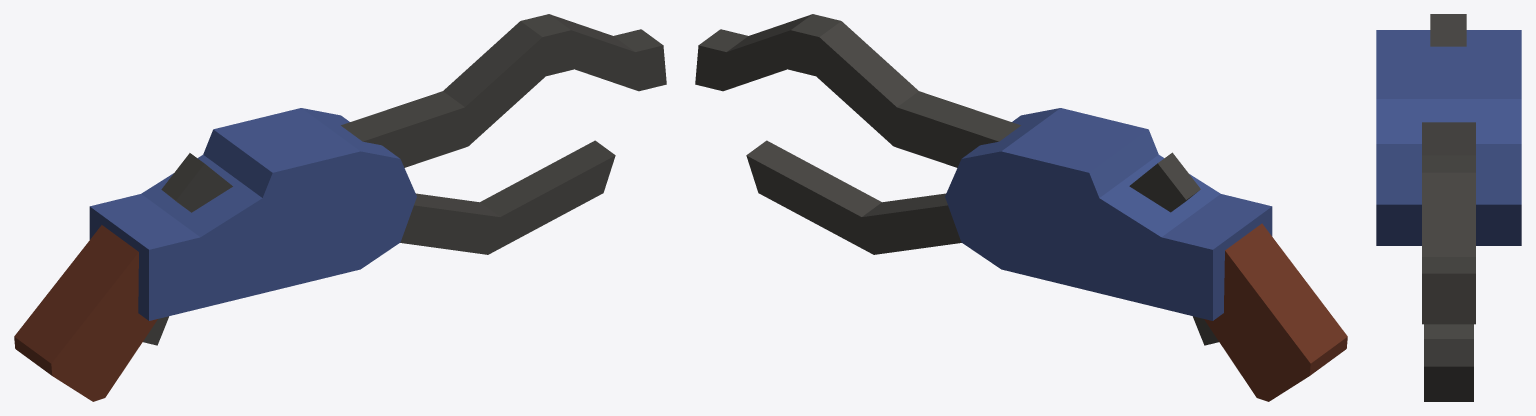
The model's file is Laser.fbx.
3 views of the same model, side by side, from view 1: azimuth 30°, elevation 25°; view 2: azimuth 150°, elevation 25°; view 3: azimuth 270°, elevation 25° (orthographic). The views are drawn at different scales.
Parts seen in each view (by area): view 1: Cube.001, Cube.003, Cube, Cube.004, Cube.002; view 2: Cube.001, Cube.003, Cube, Cube.004, Cube.002; view 3: Cube.001, Cube.003, Cube.004, Cube.002.
Part boxes in pixels (bbox=[...]): Cube.001: bbox=[89, 108, 416, 320]; Cube.003: bbox=[341, 14, 666, 167]; Cube: bbox=[14, 225, 157, 401]; Cube.004: bbox=[400, 140, 615, 254]; Cube.002: bbox=[161, 153, 232, 212]; Cube.001: bbox=[945, 108, 1272, 320]; Cube.003: bbox=[695, 14, 1020, 167]; Cube: bbox=[1204, 223, 1347, 401]; Cube.004: bbox=[746, 140, 961, 254]; Cube.002: bbox=[1129, 152, 1200, 212]; Cube.001: bbox=[1376, 30, 1521, 245]; Cube.003: bbox=[1422, 122, 1475, 324]; Cube.004: bbox=[1424, 324, 1473, 401]; Cube.002: bbox=[1430, 14, 1466, 46].
Size of the model in its own units: 724 by 275 by 120.
